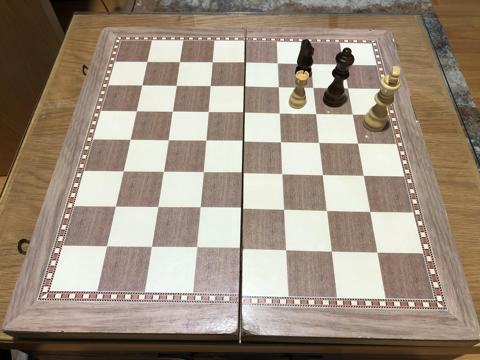xcorner: (338, 57, 350, 69), (305, 57, 317, 69), (272, 57, 284, 69), (239, 57, 251, 69), (207, 57, 219, 69), (174, 57, 186, 69), (142, 56, 154, 68), (342, 81, 354, 93), (308, 81, 320, 93), (273, 81, 285, 93), (239, 81, 251, 93), (205, 80, 217, 92), (171, 80, 183, 92), (137, 80, 149, 92), (347, 107, 359, 119), (310, 107, 322, 119), (274, 107, 286, 119), (238, 107, 250, 119), (203, 106, 215, 118), (167, 106, 179, 118), (131, 106, 143, 118), (352, 136, 364, 148), (314, 136, 326, 148), (276, 136, 288, 148), (238, 135, 250, 147), (200, 135, 212, 147), (163, 135, 175, 147), (125, 134, 137, 146), (358, 169, 370, 181), (317, 168, 329, 180), (277, 168, 289, 180), (237, 167, 249, 179), (197, 167, 209, 179), (158, 166, 170, 178), (118, 166, 130, 178), (364, 205, 376, 217), (321, 204, 333, 216), (279, 204, 291, 216), (236, 203, 248, 215), (194, 203, 206, 215), (152, 202, 164, 214), (111, 201, 123, 213), (371, 246, 383, 258), (326, 245, 338, 257), (281, 244, 293, 256), (236, 244, 248, 256), (191, 243, 203, 255), (146, 242, 158, 254), (102, 241, 114, 253)
